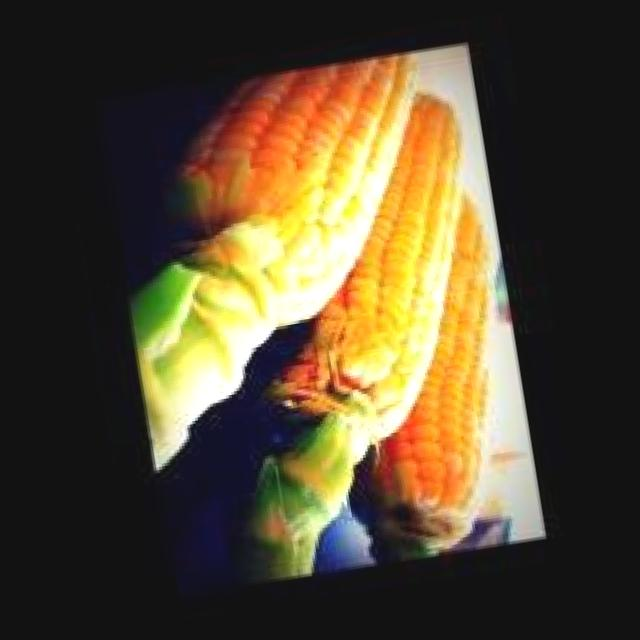corn: (241, 89, 467, 580)
